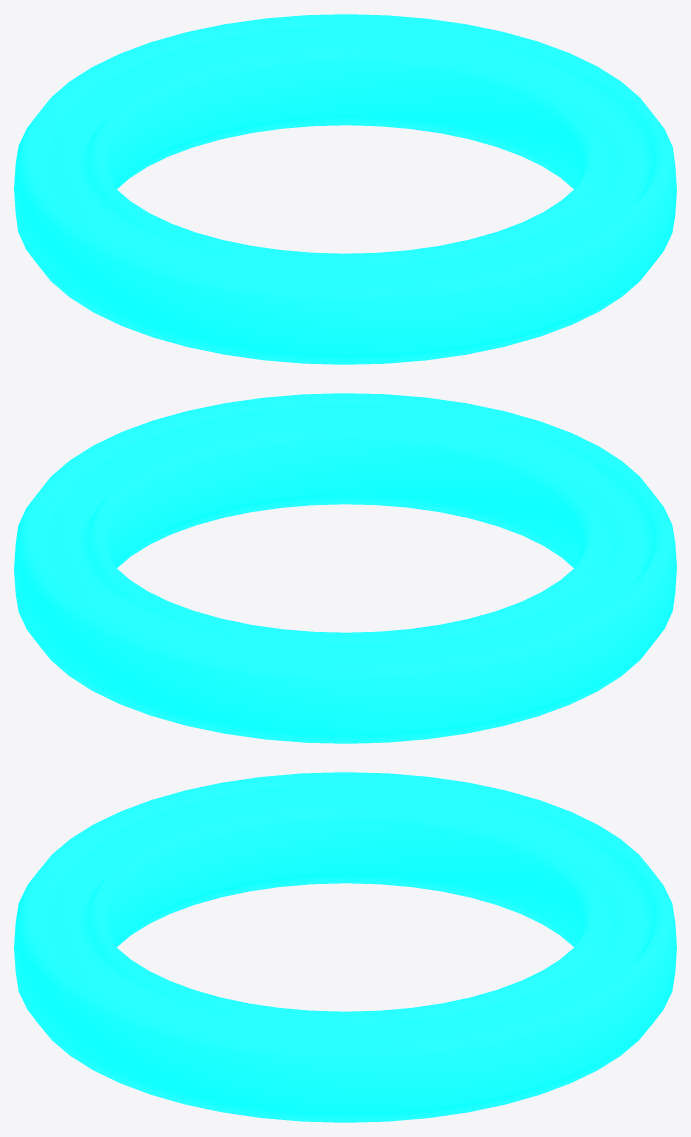
File: Halo.fbx
3 views of the same model, one above another, from view 1: azimuth 30°, elevation 25°; view 2: azimuth 150°, elevation 25°; view 3: azimuth 270°, elevation 25° (orthographic).
Visible parts, largest first — view 1: BézierCircle; view 2: BézierCircle; view 3: BézierCircle.
Part boxes in pixels (x1,y1,x2,y2): BézierCircle: (14,14,676,364); BézierCircle: (14,393,676,743); BézierCircle: (14,772,676,1122).
Size of the model in its own units: 234 by 34 by 234.
